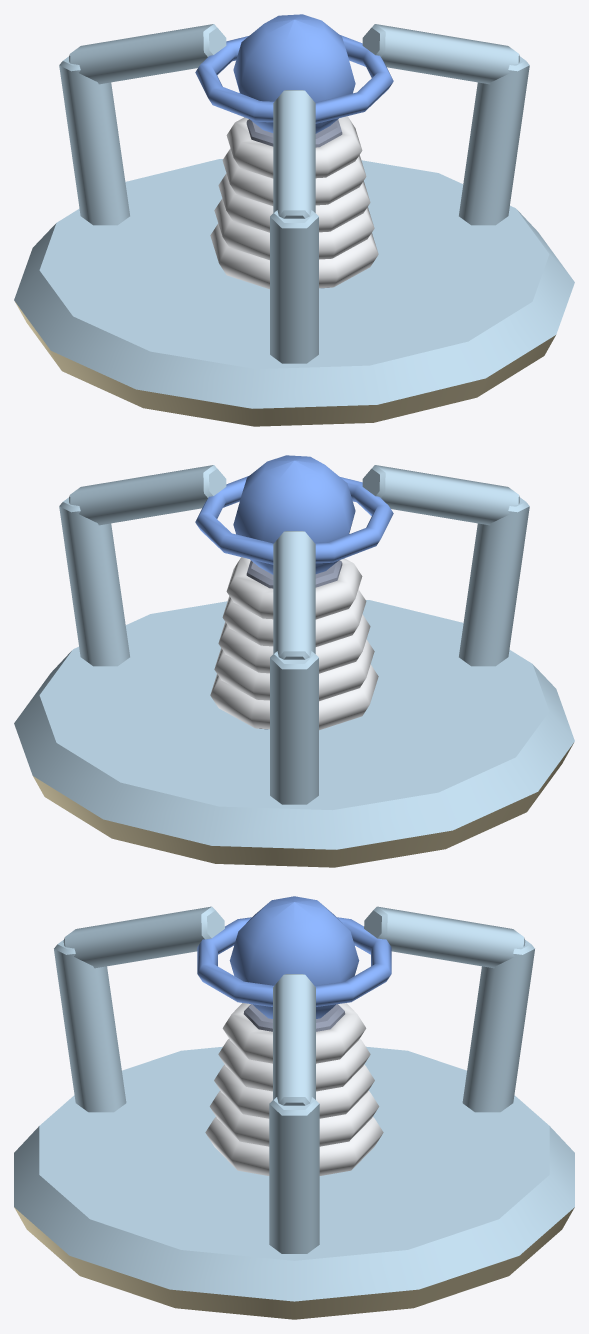
The model's file is R4D_EMPTrap.glb.
3 views of the same model, one above another, from view 1: azimuth 30°, elevation 25°; view 2: azimuth 150°, elevation 25°; view 3: azimuth 270°, elevation 25° (orthographic). The views are drawn at different scales.
Parts seen in each view (by area): view 1: R4D_EMPTrap_Body, R4D_EMPTrap_Core; view 2: R4D_EMPTrap_Body, R4D_EMPTrap_Core; view 3: R4D_EMPTrap_Body, R4D_EMPTrap_Core.
Boxes of the visible parts, x1,y1,x2,y2 form: R4D_EMPTrap_Body: (14, 24, 574, 426); R4D_EMPTrap_Core: (195, 14, 393, 133); R4D_EMPTrap_Body: (14, 465, 574, 867); R4D_EMPTrap_Core: (195, 455, 393, 574); R4D_EMPTrap_Body: (14, 906, 574, 1319); R4D_EMPTrap_Core: (197, 896, 391, 1018).
Bounding box in the file's own units: 0.44 × 0.2545 × 0.429.
